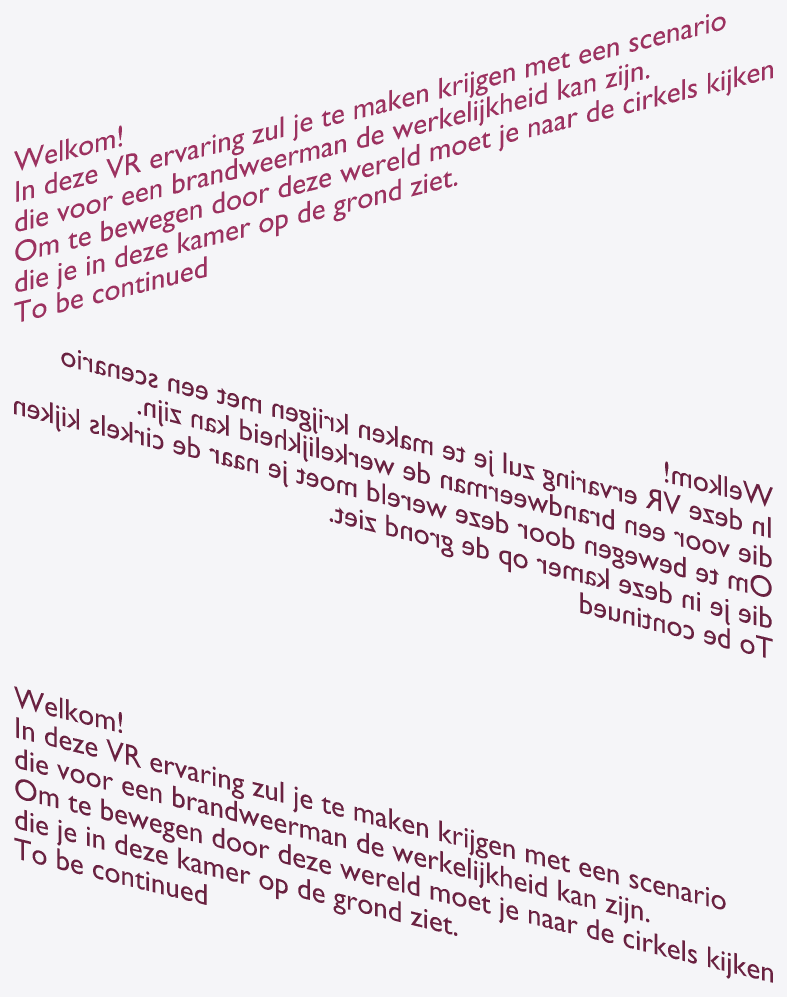
The model's file is Introtekst.glb.
3 views of the same model, one above another, from view 1: azimuth 30°, elevation 25°; view 2: azimuth 150°, elevation 25°; view 3: azimuth 330°, elevation 25° (orthographic).
Parts seen in each view (by area): view 1: Text; view 2: Text; view 3: Text.
Part boxes in pixels (x1,y1,x2,y2): Text: [14, 14, 772, 321]; Text: [14, 350, 772, 657]; Text: [14, 686, 772, 982].
Bounding box in the file's own units: 26.24 × 5.7 × 1.27e-15.
